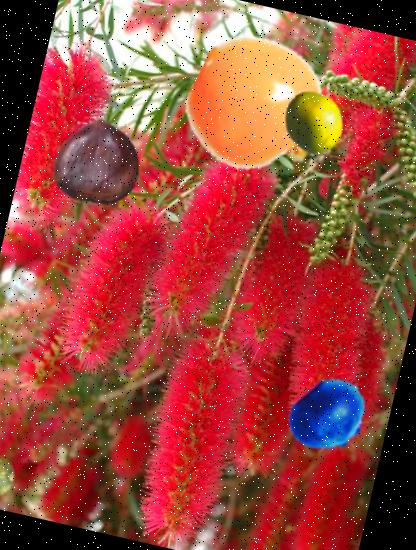Chestnut: (44, 107, 151, 214)
Huckleberry: (280, 368, 378, 465)
Melon: (0, 437, 22, 508)
Physalis: (176, 26, 340, 190)
Pomelo: (274, 83, 354, 162)
